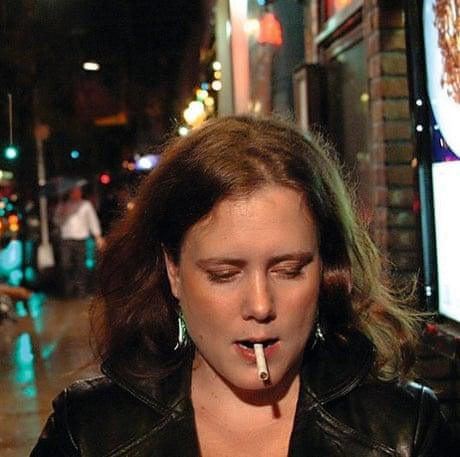Drunk: (200, 195, 314, 383)
